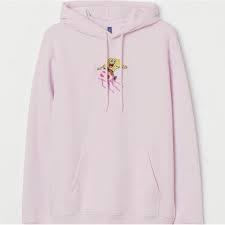sweater: (19, 1, 208, 225)
